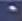Squash-Ball: (1, 0, 22, 21)
